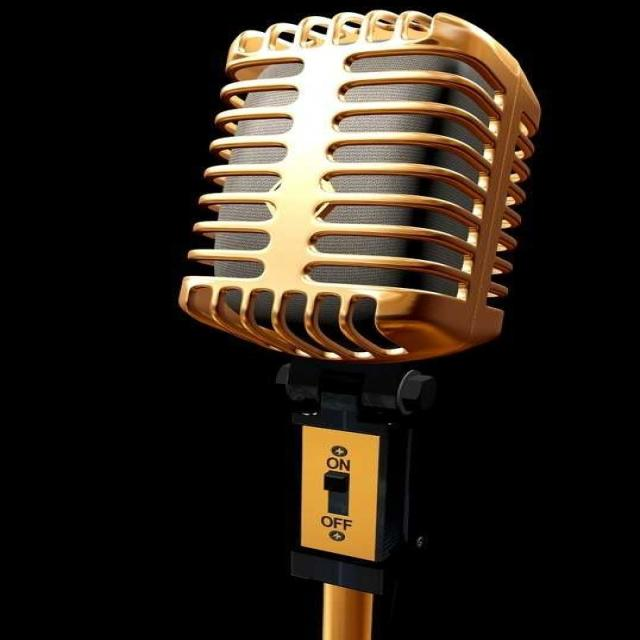microphone: (182, 7, 534, 634)
